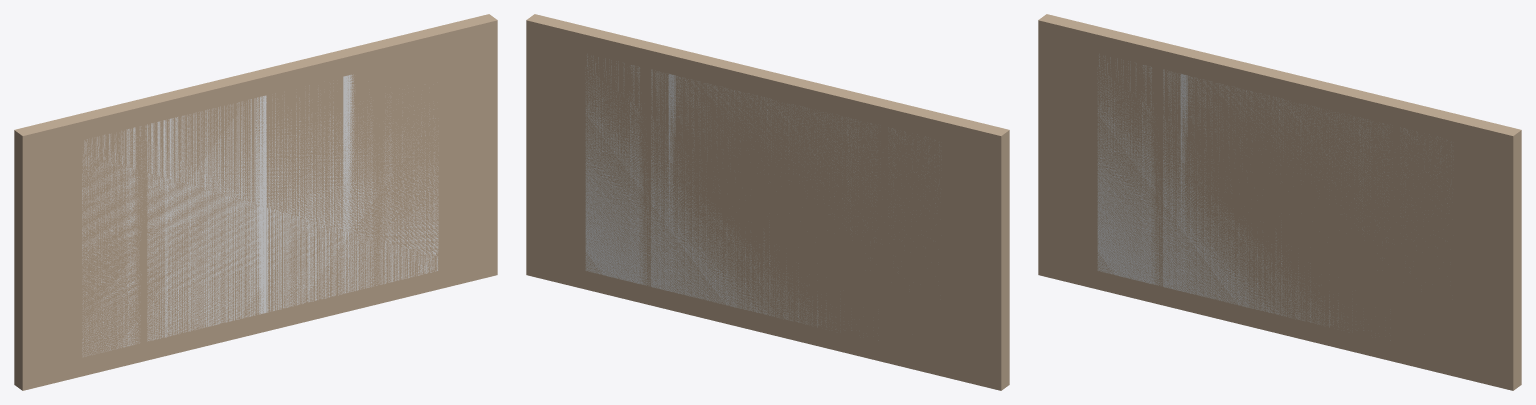
File: MOD_WINDOW_RESIDENTIAL_LARGE_001_LOD_CLOSE.glb
3 views of the same model, side by side, from view 1: azimuth 30°, elevation 25°; view 2: azimuth 150°, elevation 25°; view 3: azimuth 330°, elevation 25° (orthographic).
Visible parts, largest first — view 1: MOD_WINDOW_RESIDENTIAL_LARGE_001_COASTAL_PANORAMIC_WINDOW_CL (×2), MOD_WINDOW_RESIDENTIAL_LARGE_001_DOUBLE_PANEL_WINDOW_CLOSE_F, MOD_WINDOW_RESIDENTIAL_LARGE_001_LARGE_SINGLE_WINDOW_CLOSE_F, MOD_WINDOW_RESIDENTIAL_LARGE_001_DOUBLE_PANEL_WINDOW_CLOSE_D (×2), MOD_WINDOW_RESIDENTIAL_LARGE_001_COASTAL_PANORAMIC_WINDOW_C, MOD_WINDOW_RESIDENTIAL_LARGE_001_LARGE_SINGLE_WINDOW_CLOSE_D; view 2: MOD_WINDOW_RESIDENTIAL_LARGE_001_COASTAL_PANORAMIC_WINDOW_CL (×2), MOD_WINDOW_RESIDENTIAL_LARGE_001_DOUBLE_PANEL_WINDOW_CLOSE_F, MOD_WINDOW_RESIDENTIAL_LARGE_001_COASTAL_PANORAMIC_WINDOW_C, MOD_WINDOW_RESIDENTIAL_LARGE_001_LARGE_SINGLE_WINDOW_CLOSE_F, MOD_WINDOW_RESIDENTIAL_LARGE_001_DOUBLE_PANEL_WINDOW_CLOSE_D; view 3: MOD_WINDOW_RESIDENTIAL_LARGE_001_COASTAL_PANORAMIC_WINDOW_CL (×2), MOD_WINDOW_RESIDENTIAL_LARGE_001_DOUBLE_PANEL_WINDOW_CLOSE_F, MOD_WINDOW_RESIDENTIAL_LARGE_001_LARGE_SINGLE_WINDOW_CLOSE_F, MOD_WINDOW_RESIDENTIAL_LARGE_001_COASTAL_PANORAMIC_WINDOW_C, MOD_WINDOW_RESIDENTIAL_LARGE_001_DOUBLE_PANEL_WINDOW_CLOSE_D.
Part boxes in pixels (box(x1,y1,x2,y2)): MOD_WINDOW_RESIDENTIAL_LARGE_001_COASTAL_PANORAMIC_WINDOW_CL (×2): box(14, 14, 497, 390); MOD_WINDOW_RESIDENTIAL_LARGE_001_DOUBLE_PANEL_WINDOW_CLOSE_F: box(82, 83, 438, 356); MOD_WINDOW_RESIDENTIAL_LARGE_001_LARGE_SINGLE_WINDOW_CLOSE_F: box(126, 85, 393, 339); MOD_WINDOW_RESIDENTIAL_LARGE_001_DOUBLE_PANEL_WINDOW_CLOSE_D (×2): box(165, 74, 355, 337); MOD_WINDOW_RESIDENTIAL_LARGE_001_COASTAL_PANORAMIC_WINDOW_C: box(365, 41, 384, 305); MOD_WINDOW_RESIDENTIAL_LARGE_001_LARGE_SINGLE_WINDOW_CLOSE_D: box(254, 95, 266, 314); MOD_WINDOW_RESIDENTIAL_LARGE_001_COASTAL_PANORAMIC_WINDOW_CL (×2): box(526, 14, 1009, 390); MOD_WINDOW_RESIDENTIAL_LARGE_001_DOUBLE_PANEL_WINDOW_CLOSE_F: box(585, 54, 941, 340); MOD_WINDOW_RESIDENTIAL_LARGE_001_COASTAL_PANORAMIC_WINDOW_C: box(639, 41, 658, 305); MOD_WINDOW_RESIDENTIAL_LARGE_001_LARGE_SINGLE_WINDOW_CLOSE_F: box(630, 65, 896, 311); MOD_WINDOW_RESIDENTIAL_LARGE_001_DOUBLE_PANEL_WINDOW_CLOSE_D: box(668, 74, 679, 291); MOD_WINDOW_RESIDENTIAL_LARGE_001_COASTAL_PANORAMIC_WINDOW_CL (×2): box(1038, 14, 1521, 390); MOD_WINDOW_RESIDENTIAL_LARGE_001_DOUBLE_PANEL_WINDOW_CLOSE_F: box(1097, 54, 1453, 340); MOD_WINDOW_RESIDENTIAL_LARGE_001_LARGE_SINGLE_WINDOW_CLOSE_F: box(1142, 65, 1408, 311); MOD_WINDOW_RESIDENTIAL_LARGE_001_COASTAL_PANORAMIC_WINDOW_C: box(1388, 99, 1408, 363); MOD_WINDOW_RESIDENTIAL_LARGE_001_DOUBLE_PANEL_WINDOW_CLOSE_D: box(1180, 74, 1191, 291).
Size of the model in its own units: 3.2 by 1.64 by 0.1.
